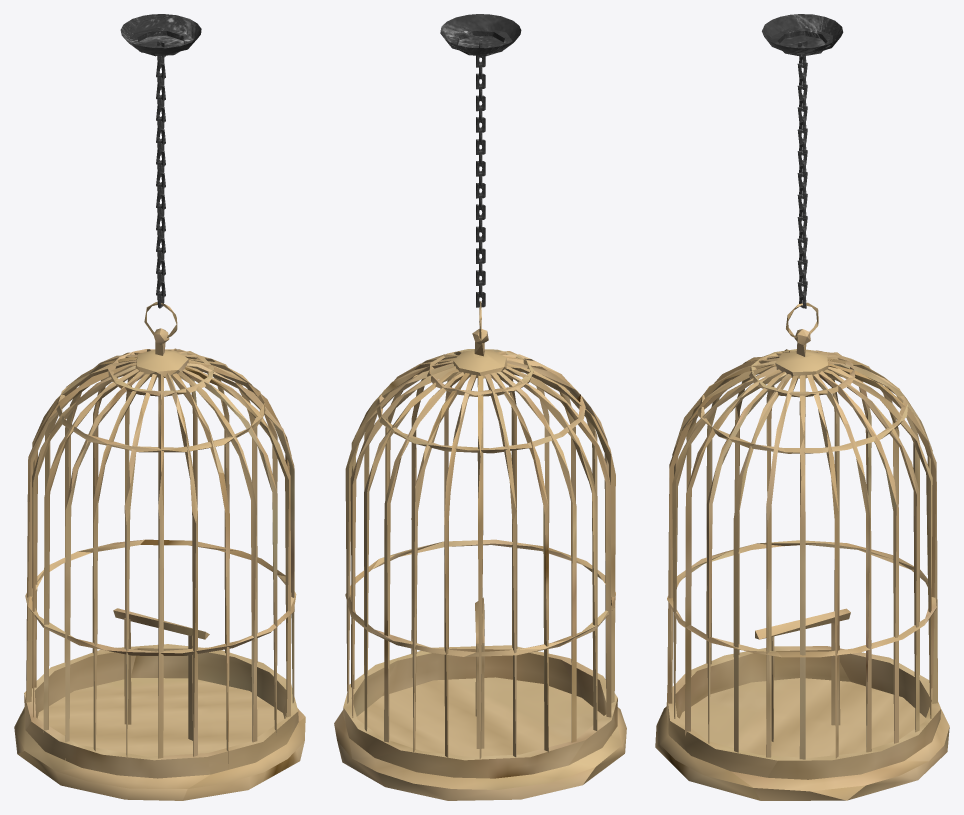
The model's file is bird-cage.lod1.glb.
3 views of the same model, side by side, from view 1: azimuth 30°, elevation 25°; view 2: azimuth 150°, elevation 25°; view 3: azimuth 270°, elevation 25° (orthographic).
Visible parts, largest first — view 1: bird-cage; view 2: bird-cage; view 3: bird-cage.
Boxes of the visible parts, x1=… form: bird-cage: x1=14, y1=14, x2=305, y2=800; bird-cage: x1=334, y1=14, x2=626, y2=800; bird-cage: x1=655, y1=14, x2=949, y2=800.
Bounding box in the file's own units: 0.4695 × 1.26 × 0.4726.
2 materials, 2 textured.
